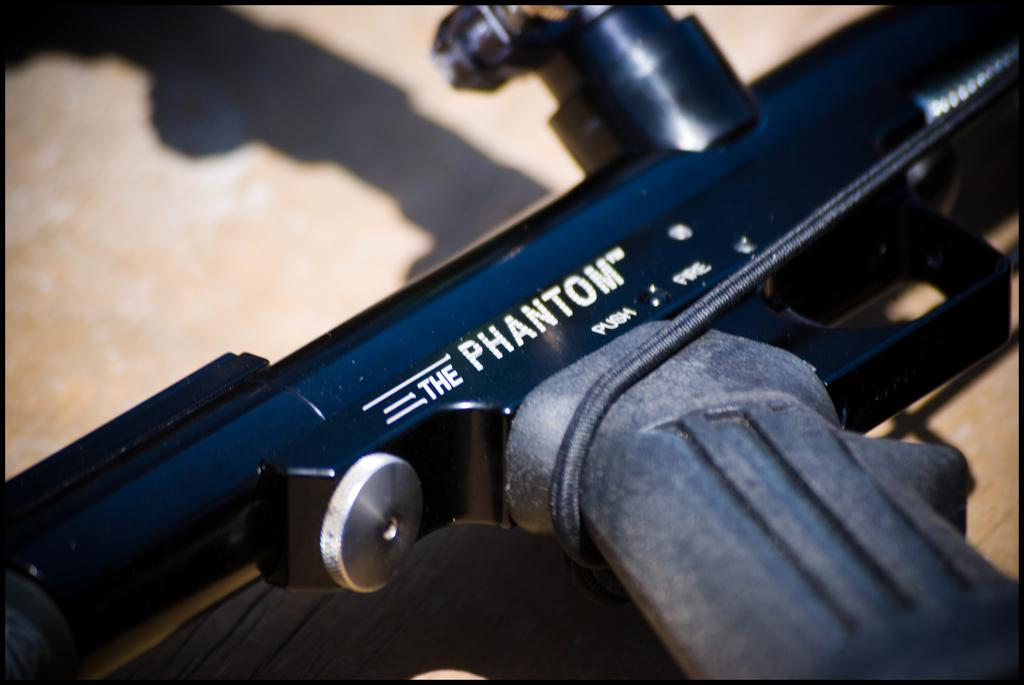Rifle: (0, 3, 1023, 684)
